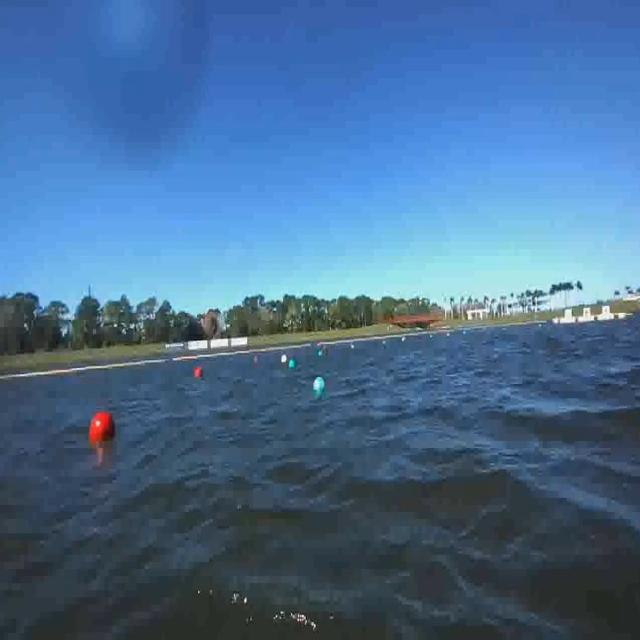green-buoy: (314, 374, 326, 396), (288, 358, 296, 369)
red-buoy: (89, 413, 115, 446), (193, 365, 201, 377), (196, 365, 203, 377)
